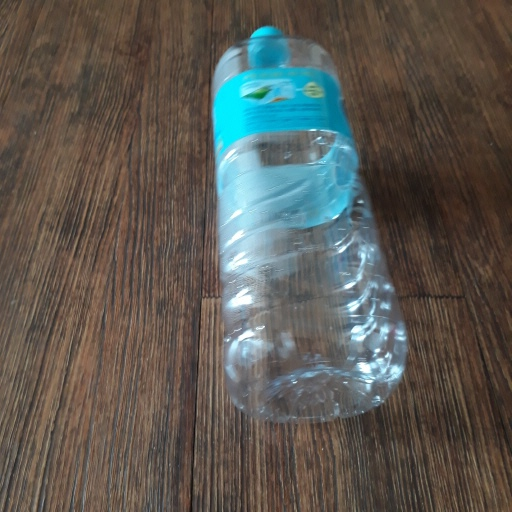Plastic_0: (207, 23, 408, 418)
